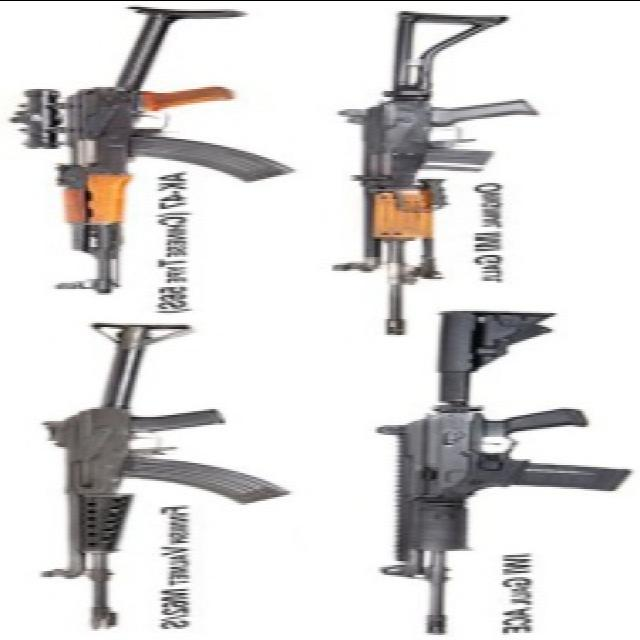rifle: (34, 307, 290, 629), (387, 301, 633, 635), (14, 1, 293, 293), (349, 1, 539, 339)
